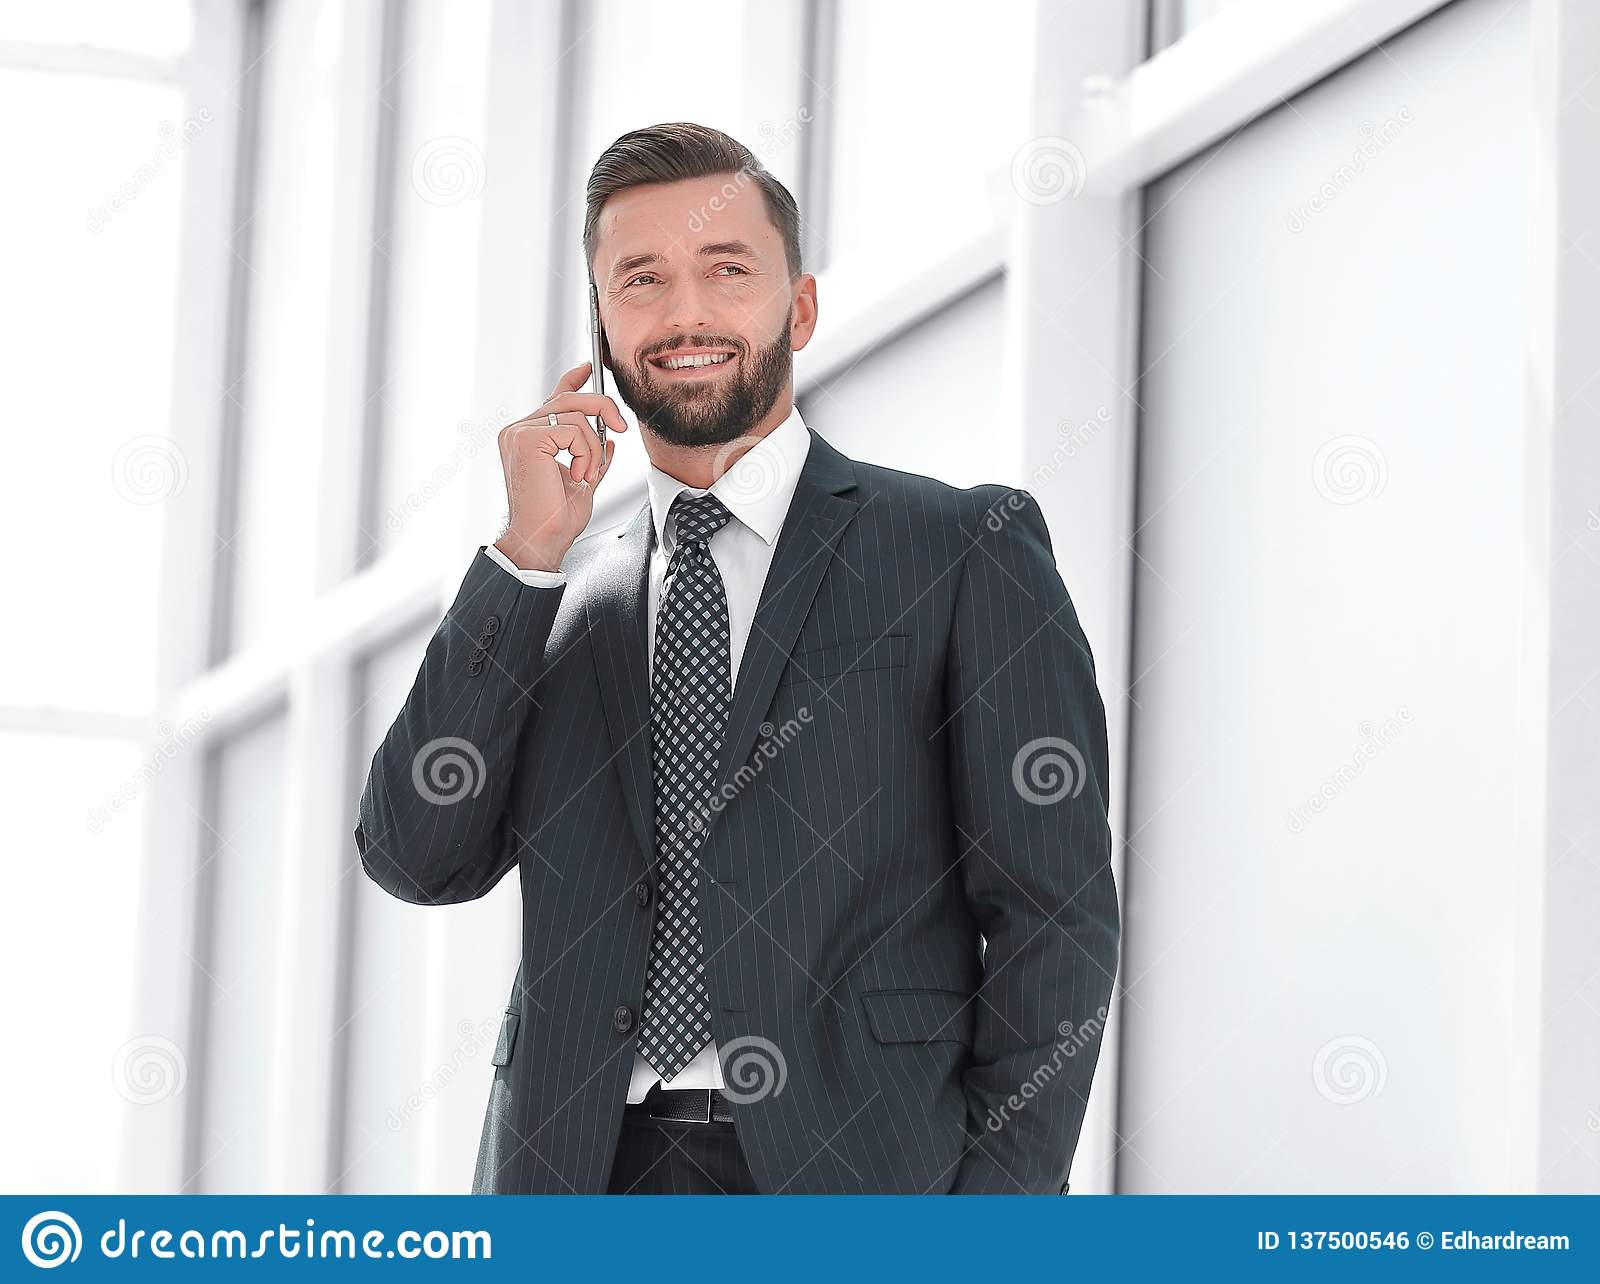phone: (575, 253, 613, 473)
talk: (493, 232, 778, 544)
